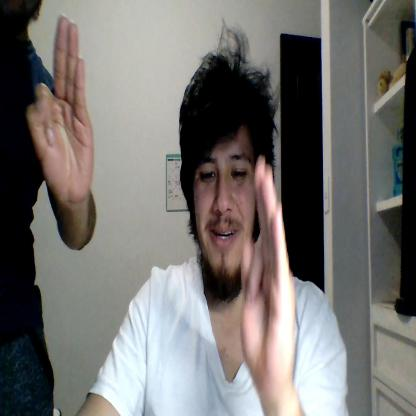F: (28, 14, 94, 204), (241, 157, 295, 385)
